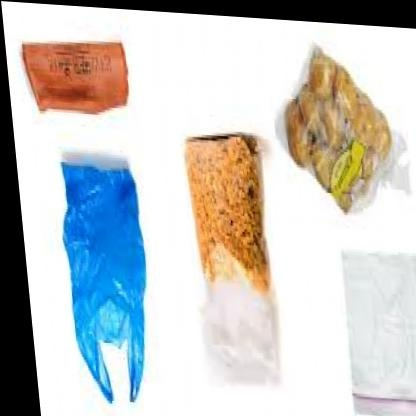trash: (186, 134, 276, 383), (62, 162, 145, 401), (286, 47, 391, 212), (343, 251, 415, 399), (23, 43, 127, 112)
